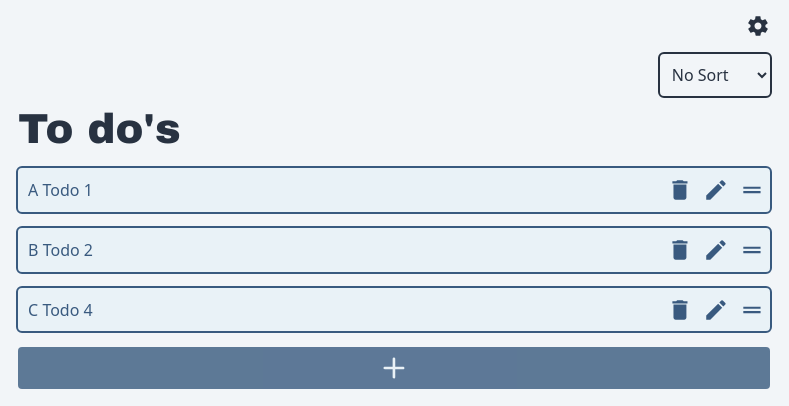
Test case: Index Page › delete button
# Delete the first button
Click the button named "Delete" in the row of "A Todo 1": (680, 190) [662,168,698,212]
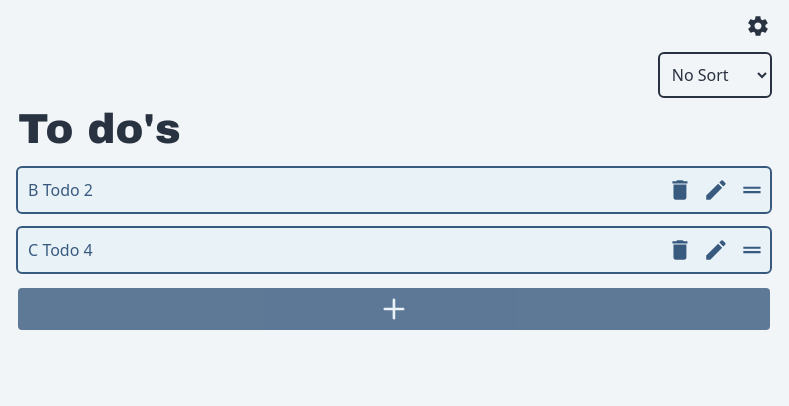
expect the link with aria-label "To do" reads "B Todo 2": met, box [28,179,93,201]
expect the number of links named "To do" is 2: met, box [18,168,770,212]; [18,228,770,272]
